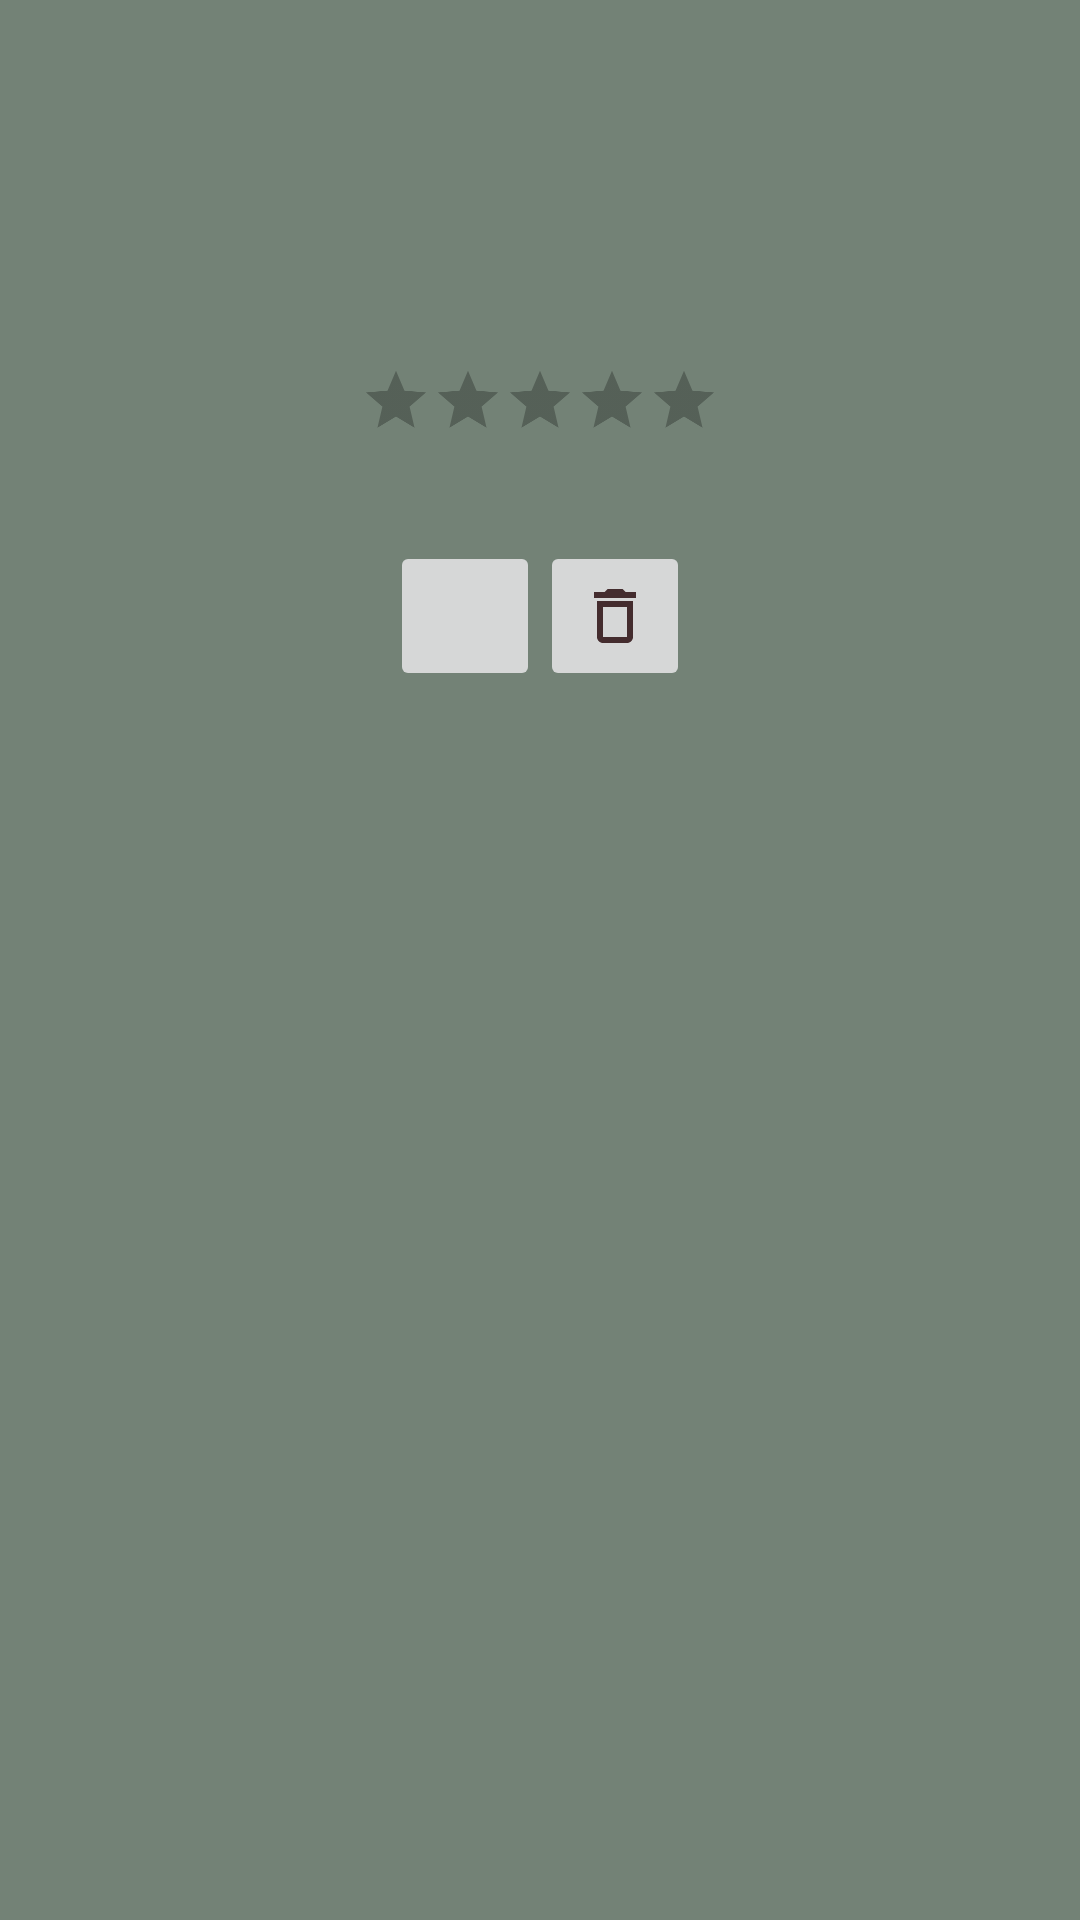

Icons on this 1080×1920 Android screen, each with its box as (x1, y1, x2, y2):
delete: (552, 559, 678, 673)
